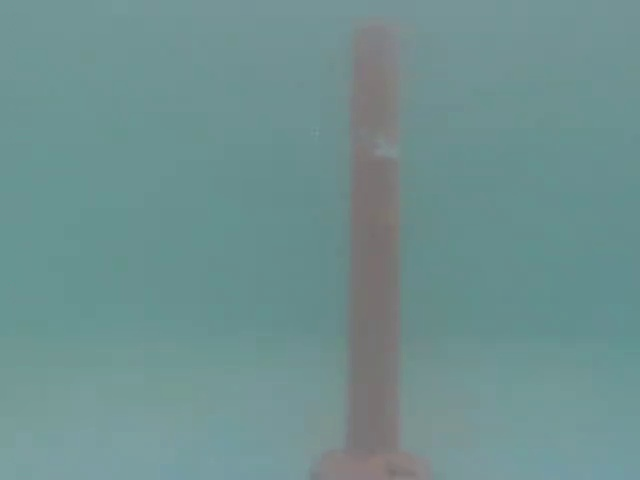flare: (310, 17, 450, 480)
